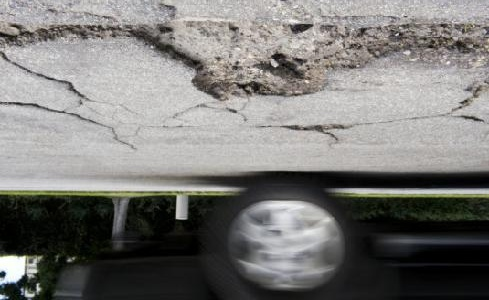pothole: (126, 14, 412, 105)
